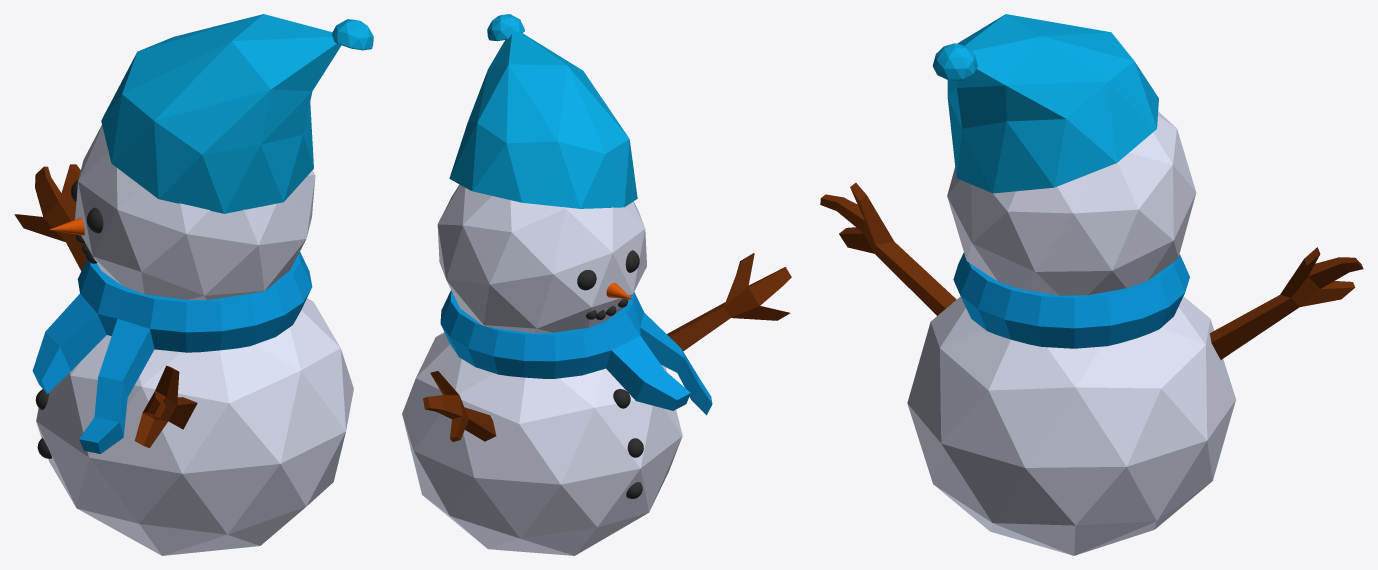
Rendered from snowman.obj.
The picture shows the model from 3 angles, left to right: view 1: azimuth 30°, elevation 25°; view 2: azimuth 150°, elevation 25°; view 3: azimuth 270°, elevation 25°; orthographic projection. The views are drawn at different scales.
Visible parts, largest first — view 1: Икосфера_body, Икосфера.002_Материал.001, Икосфера.001_head, Torus.002_Материал, Куб_Материал.002, Сфера.003_Материал.003, off; view 2: Икосфера_body, Икосфера.001_head, Икосфера.002_Материал.001, Torus.002_Материал, Куб_Материал.002, Сфера.003_Материал.003, off; view 3: Икосфера_body, Икосфера.002_Материал.001, Икосфера.001_head, Torus.002_Материал, Куб_Материал.002, off.
Boxes of the visible parts, bbox=[...] form: Икосфера_body: bbox=[36, 298, 353, 555]; Икосфера.002_Материал.001: bbox=[101, 14, 341, 213]; Икосфера.001_head: bbox=[75, 125, 315, 300]; Torus.002_Материал: bbox=[32, 252, 312, 453]; Куб_Материал.002: bbox=[14, 164, 197, 448]; Сфера.003_Материал.003: bbox=[35, 180, 103, 458]; off: bbox=[332, 19, 373, 50]; Икосфера_body: bbox=[402, 332, 682, 555]; Икосфера.001_head: bbox=[437, 184, 646, 333]; Икосфера.002_Материал.001: bbox=[449, 32, 637, 208]; Torus.002_Материал: bbox=[440, 290, 712, 415]; Куб_Материал.002: bbox=[423, 253, 791, 441]; Сфера.003_Материал.003: bbox=[577, 250, 643, 498]; off: bbox=[487, 14, 524, 41]; Икосфера_body: bbox=[907, 296, 1235, 555]; Икосфера.002_Материал.001: bbox=[947, 14, 1158, 193]; Икосфера.001_head: bbox=[947, 112, 1196, 295]; Torus.002_Материал: bbox=[953, 252, 1189, 348]; Куб_Материал.002: bbox=[820, 183, 1363, 359]; off: bbox=[932, 43, 977, 80].
Bounding box in the file's own units: 3.67 × 6.14 × 5.57.
